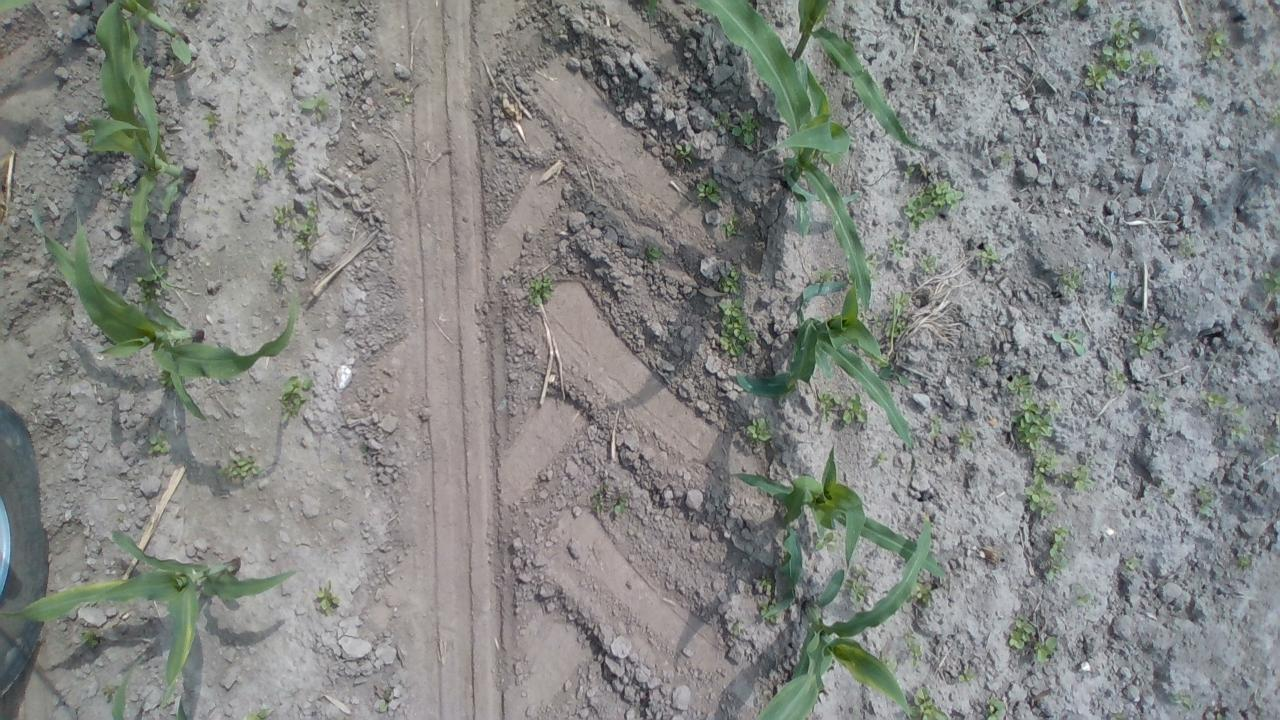Maize: (32, 193, 300, 428), (690, 0, 873, 312), (1, 528, 301, 716), (729, 443, 947, 620), (754, 518, 933, 720), (77, 2, 196, 290), (734, 274, 911, 448), (790, 0, 922, 151), (114, 0, 194, 162), (112, 656, 146, 720), (0, 1, 35, 15), (177, 692, 188, 720), (646, 0, 658, 19)
Weeds: (1084, 14, 1161, 88), (902, 180, 966, 230), (1008, 394, 1060, 448), (716, 296, 758, 356), (1023, 443, 1057, 516), (278, 374, 317, 426), (1043, 520, 1072, 581), (910, 682, 950, 720), (296, 198, 322, 251), (883, 288, 909, 340), (1006, 608, 1035, 654), (1132, 321, 1167, 355), (729, 109, 762, 145), (1060, 458, 1094, 492), (216, 455, 262, 480), (1050, 325, 1086, 356), (525, 274, 555, 310), (302, 93, 332, 124), (714, 262, 741, 296), (904, 625, 925, 668), (1103, 364, 1132, 395), (745, 415, 773, 446), (842, 392, 868, 424), (816, 390, 841, 422), (588, 479, 610, 515), (842, 576, 869, 605), (316, 580, 339, 614), (1033, 634, 1059, 664), (1194, 483, 1217, 516), (268, 202, 296, 229), (1198, 388, 1228, 413), (1138, 388, 1165, 415), (696, 178, 724, 204), (272, 131, 296, 159), (1060, 264, 1082, 294), (984, 694, 1009, 720), (1006, 372, 1034, 395), (270, 253, 288, 288), (1206, 28, 1224, 61), (134, 273, 156, 300), (1168, 688, 1194, 710), (956, 422, 976, 450), (888, 236, 908, 264), (720, 214, 741, 240), (1261, 266, 1280, 294), (976, 243, 998, 267), (758, 598, 776, 626), (956, 666, 984, 684), (1260, 432, 1280, 456), (1228, 420, 1252, 440), (612, 490, 630, 516), (204, 110, 225, 132), (1110, 283, 1130, 306), (920, 253, 941, 274), (81, 626, 100, 649), (1177, 234, 1195, 258), (1223, 403, 1247, 421), (814, 531, 834, 552), (912, 582, 933, 602), (645, 241, 664, 263), (928, 412, 944, 438), (867, 252, 880, 283), (397, 82, 414, 105), (676, 140, 692, 164), (1157, 480, 1175, 500), (252, 158, 270, 178), (112, 176, 128, 198), (150, 436, 169, 454), (1060, 0, 1088, 12), (879, 650, 897, 668), (712, 110, 732, 126), (380, 688, 392, 714), (1076, 592, 1094, 608), (178, 0, 202, 12), (1126, 552, 1140, 572), (247, 708, 270, 720), (814, 267, 833, 280), (974, 354, 996, 365), (104, 684, 116, 702), (159, 372, 172, 388), (761, 574, 772, 592), (853, 563, 867, 577), (283, 158, 297, 172), (1196, 96, 1210, 109), (1270, 57, 1280, 74), (1267, 114, 1280, 127), (1238, 554, 1250, 568), (870, 316, 882, 329), (904, 165, 914, 179), (76, 120, 87, 132), (874, 450, 886, 460), (1110, 712, 1124, 720), (358, 443, 369, 453), (394, 105, 406, 114), (1000, 152, 1011, 160), (732, 625, 739, 636), (1216, 711, 1224, 720), (118, 514, 125, 521)
